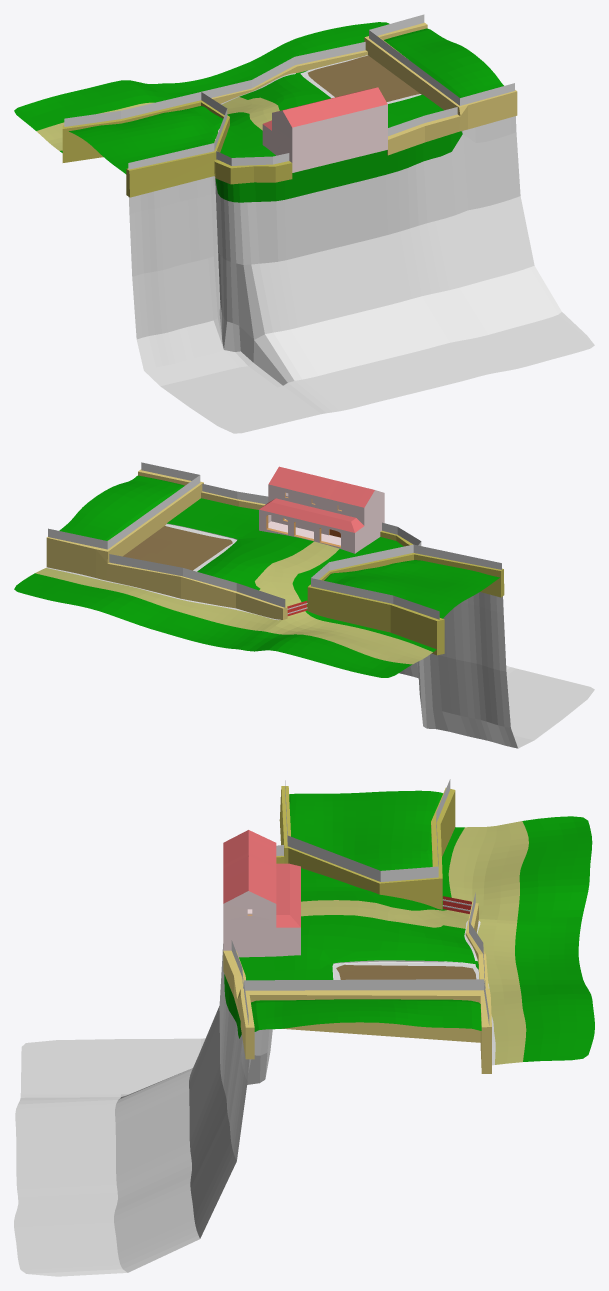
The model's file is Malla Bancal VER8.fbx.
3 views of the same model, one above another, from view 1: azimuth 30°, elevation 25°; view 2: azimuth 150°, elevation 25°; view 3: azimuth 270°, elevation 25° (orthographic). The views are drawn at different scales.
Visible parts, largest first — view 1: Ver2, Casa, MurEst, MurOest, Valla4A, Valla2A, Valla5A, Valla3A, Valla4B, Valla1A; view 2: Ver2, MurEst, Casa, MurOest, Valla4A, Valla2A, Valla5A, Valla4B, Valla2B, Valla1A, Valla5B; view 3: Ver2, Casa, MurEst, MurOest, Valla2A, Valla4A, Valla2B.
Boxes of the visible parts, x1,y1,x2,y2 form: Ver2: (14,22,594,433); Casa: (262,87,387,172); MurEst: (211,22,517,155); MurOest: (62,100,292,197); Valla4A: (64,92,227,169); Valla2A: (369,14,514,105); Valla5A: (201,42,365,97); Valla3A: (216,151,289,165); Valla4B: (65,94,227,167); Valla1A: (388,107,457,136); Ver2: (14,475,594,748); MurEst: (46,469,287,619); Casa: (259,466,384,553); MurOest: (307,530,504,655); Valla4A: (311,544,501,619); Valla2A: (48,462,200,549); Valla5A: (109,554,285,607); Valla4B: (311,545,501,618); Valla2B: (48,463,199,548); Valla1A: (202,483,268,504); Valla5B: (109,554,284,606); Ver2: (14,790,594,1276); Casa: (223,830,300,957); MurEst: (223,902,491,1073); MurOest: (276,786,455,909); Valla2A: (244,979,489,1025); Valla4A: (285,779,450,881); Valla2B: (244,979,487,1020).
Size of the model in its own units: 50748 by 29134 by 51346.
